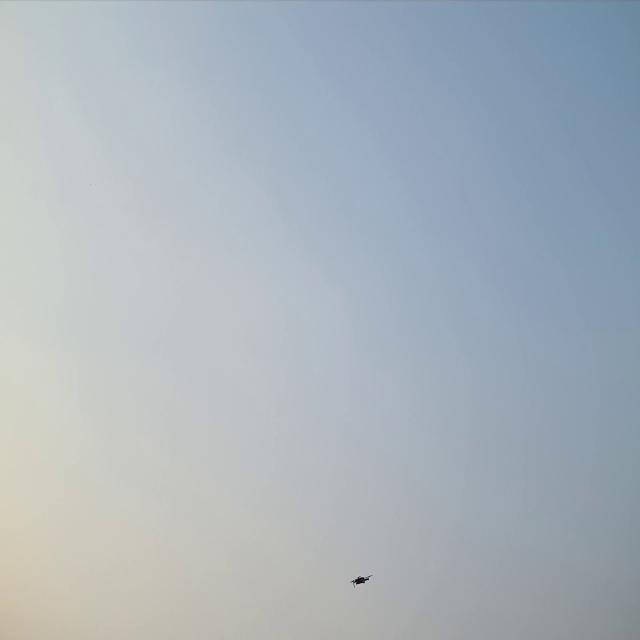UAV: (350, 572, 372, 590)
